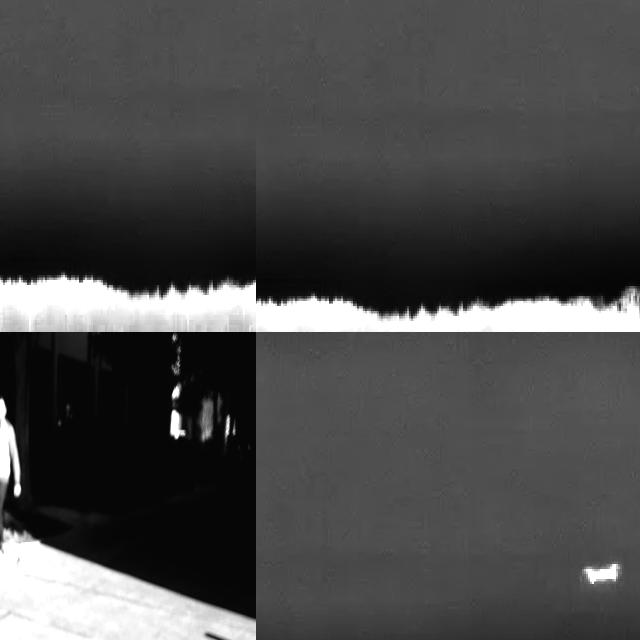1: (573, 559, 633, 594)
drone: (5, 536, 41, 582)
